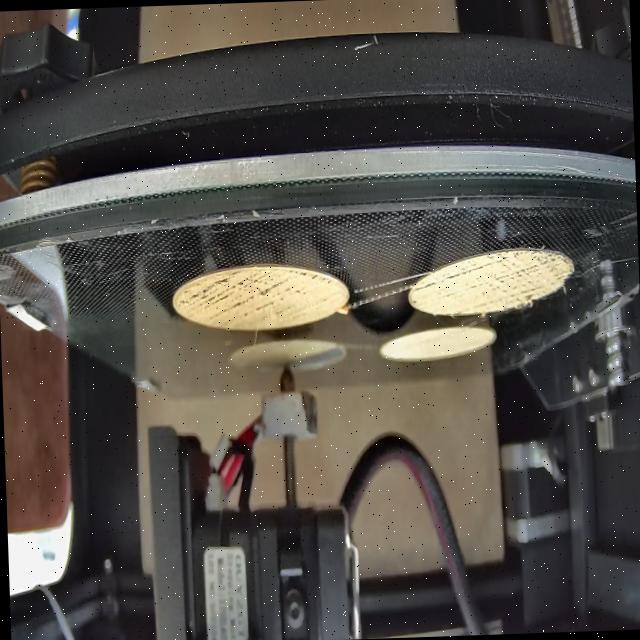under_extrusion: (414, 255, 566, 308), (178, 270, 334, 318)
